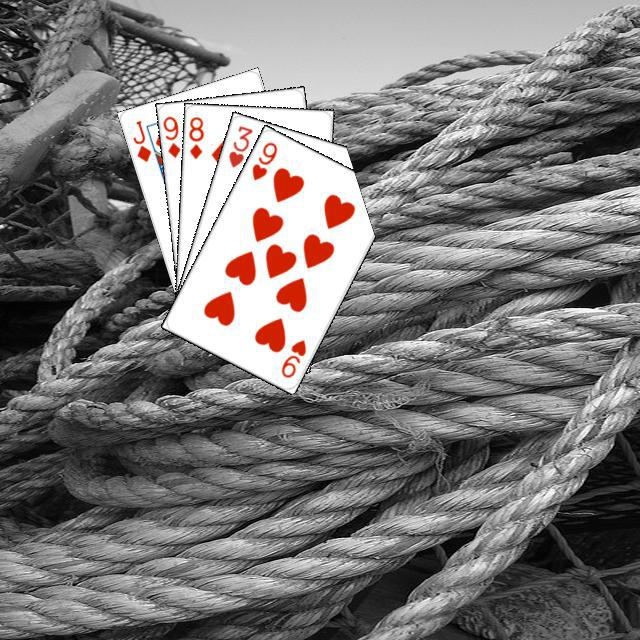3h: (224, 121, 254, 169)
8d: (184, 112, 206, 161)
9d: (159, 111, 182, 160)
9h: (276, 334, 308, 380), (247, 137, 279, 182)
Jd: (128, 115, 153, 164)
